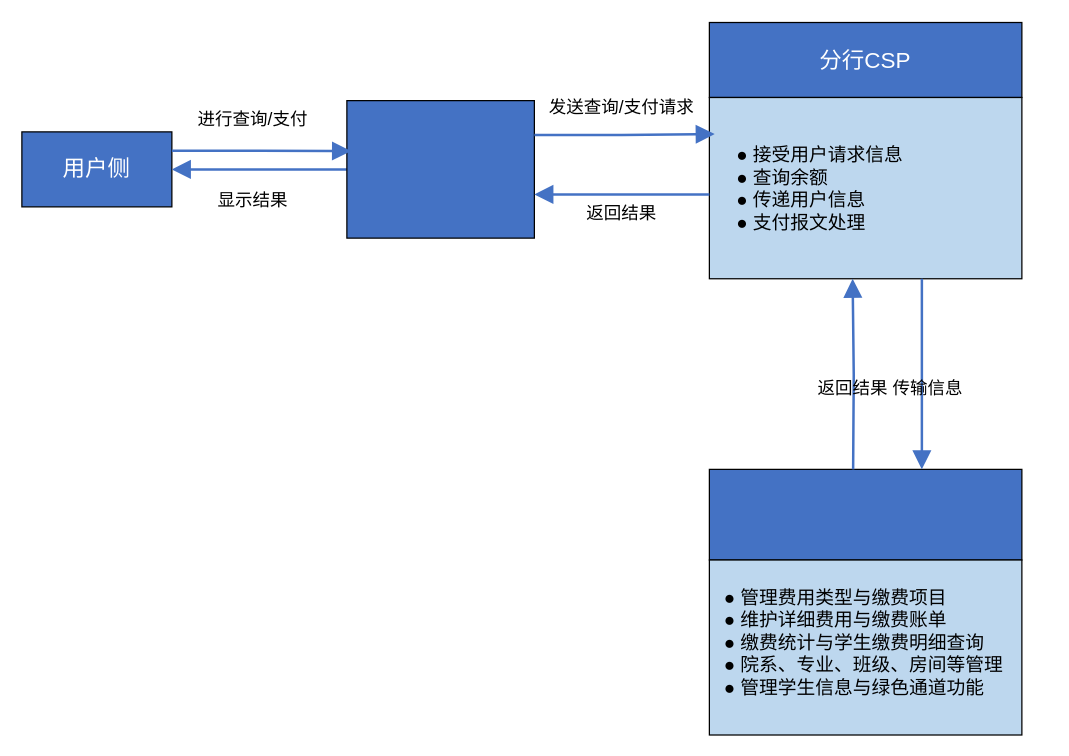
The diagram is 1069 pixels wide and 756 high, and some of its shapes have lost their labels. Each missing label, with the box of its shape:
三方商户: (708, 468, 1022, 560)
手机银行: (346, 99, 534, 238)
